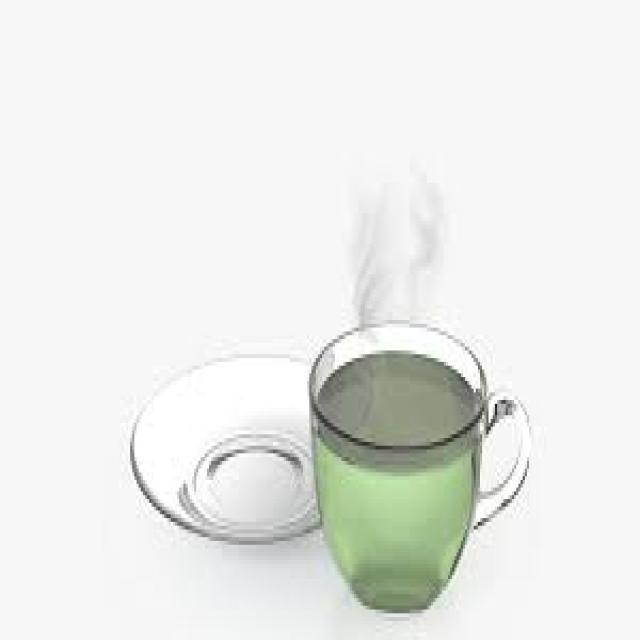taza: (286, 309, 554, 606)
